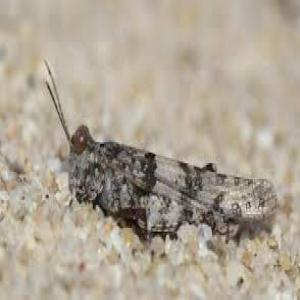locust: (65, 101, 277, 250)
